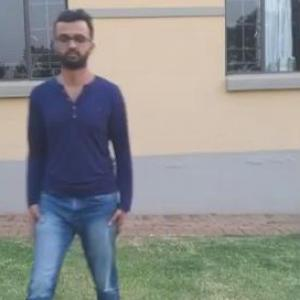follow: (21, 10, 128, 299)
